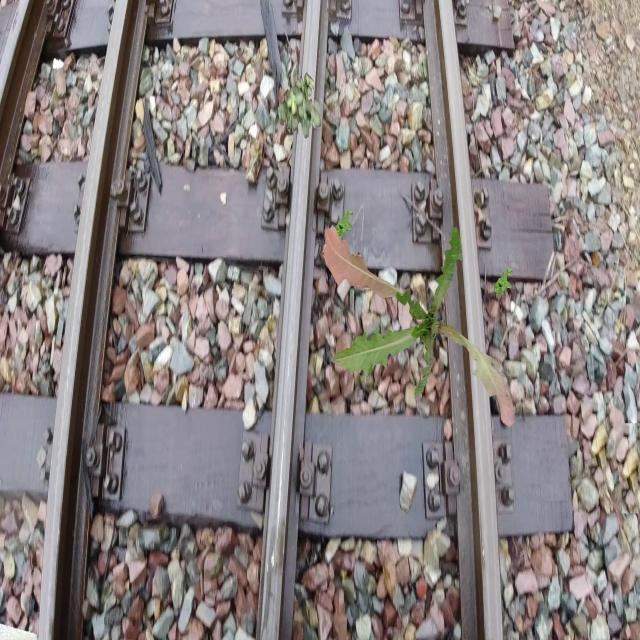Plant: (323, 225, 516, 428), (278, 72, 322, 138), (334, 208, 354, 240), (493, 266, 512, 298)
